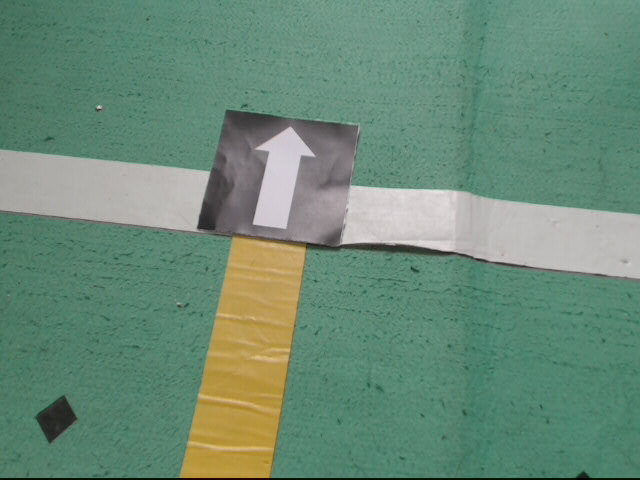straight: (196, 106, 358, 249)
